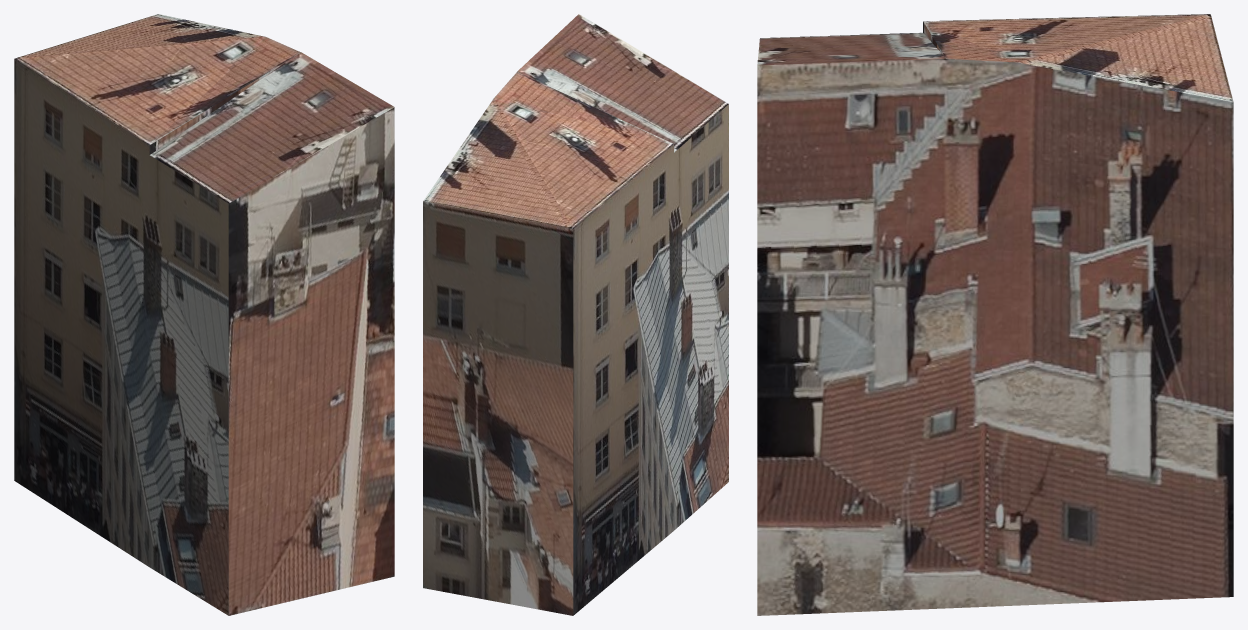
The picture shows the model from 3 angles, left to right: view 1: azimuth 30°, elevation 25°; view 2: azimuth 150°, elevation 25°; view 3: azimuth 270°, elevation 25°; orthographic projection. The views are drawn at different scales.
Parts seen in each view (by area): view 1: Z_UP; view 2: Z_UP; view 3: Z_UP.
Boxes of the visible parts, left/top/right/bottom form: Z_UP: left=14, top=14, right=394, bottom=615; Z_UP: left=423, top=14, right=728, bottom=615; Z_UP: left=757, top=14, right=1233, bottom=615.
Size of the model in its own units: 9.35 by 22.41 by 17.57.
Materials: 2 (1 with a texture image).
